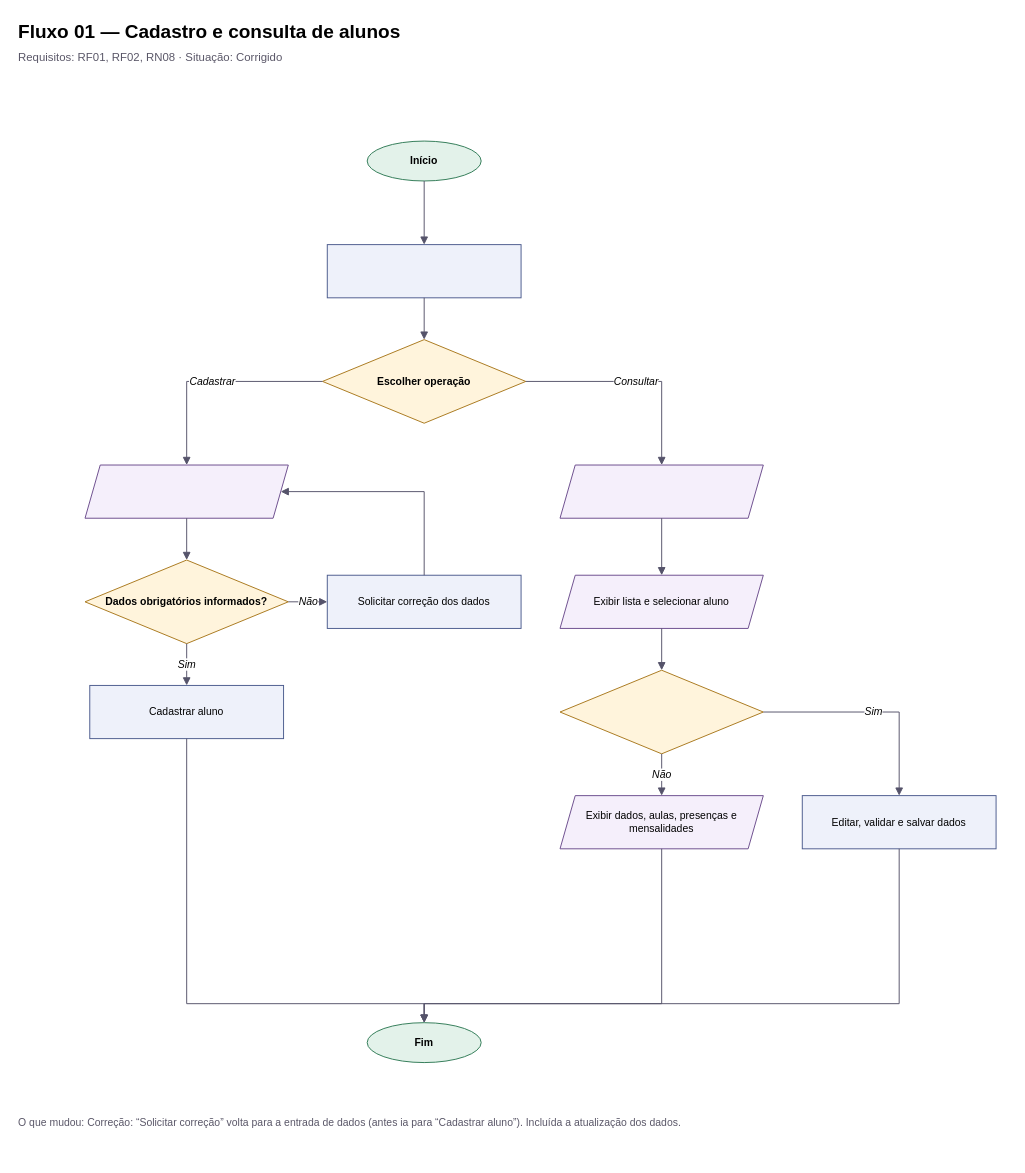
This 1025x1173 diagram has some shape labels left out. Here are the shapes that lost their labels. From the top down, the box of each, then its label:
(326, 244, 521, 298): Acessar a área de alunos
(84, 464, 288, 518): Informar dados do aluno (nome obrigatório)
(559, 464, 763, 518): Buscar por nome, e-mail ou telefone
(559, 669, 763, 754): Atualizar dados?
